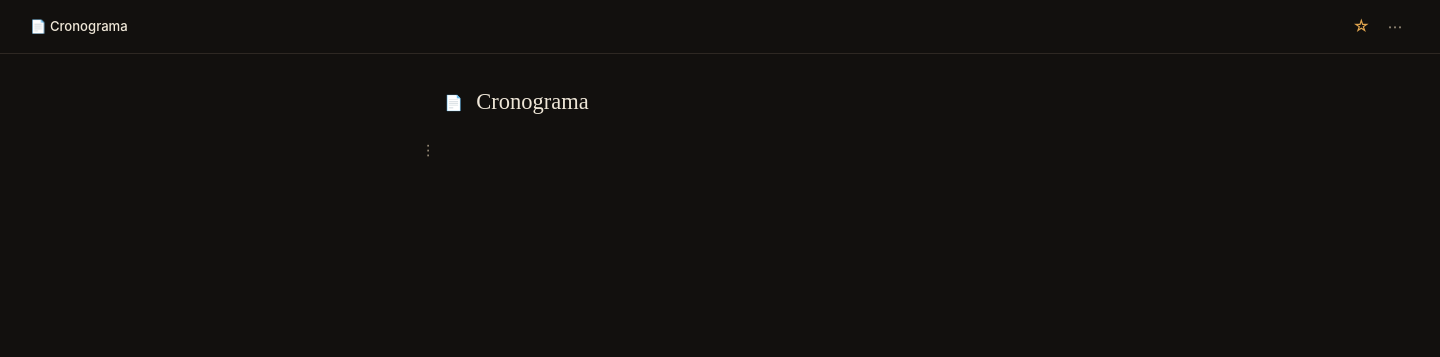
it: PageWorkspace › FUN-023: o botão de exportar Markdown está no menu de opções da página aberta
Click the button named "Mais opções da página" at (1395, 26), box [1380,11,1410,41]
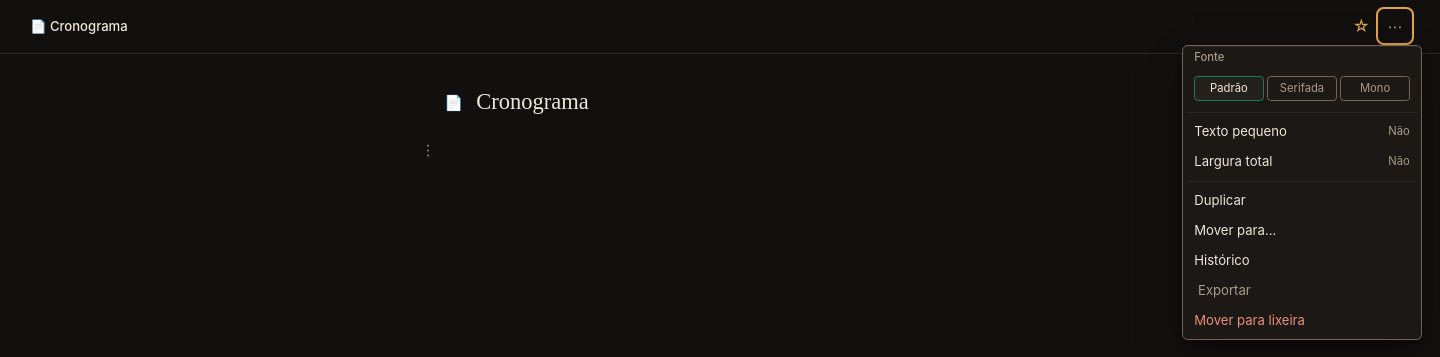
Now the button with aria-label "Exportar como Markdown" is shown, box [1190,277,1258,303]
